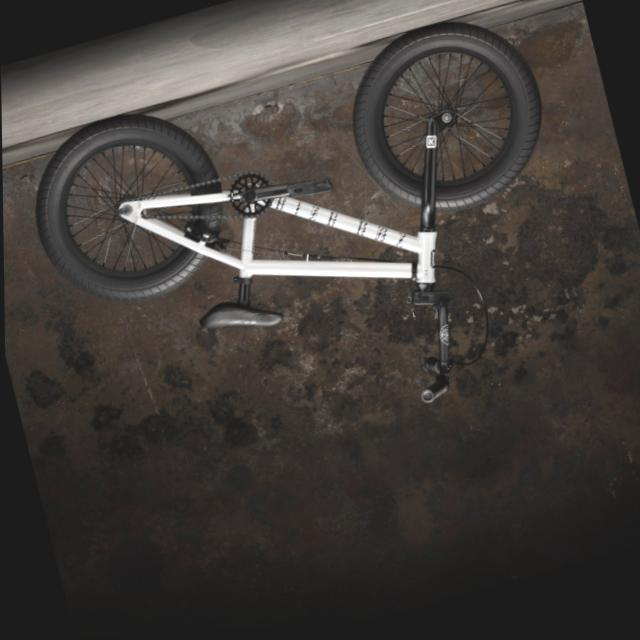bmx-bike: (12, 2, 607, 501)
